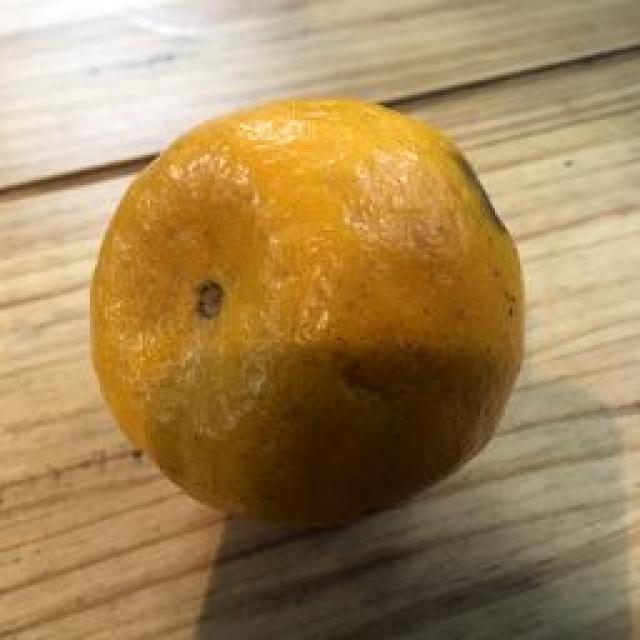Wet: (80, 92, 522, 528)
